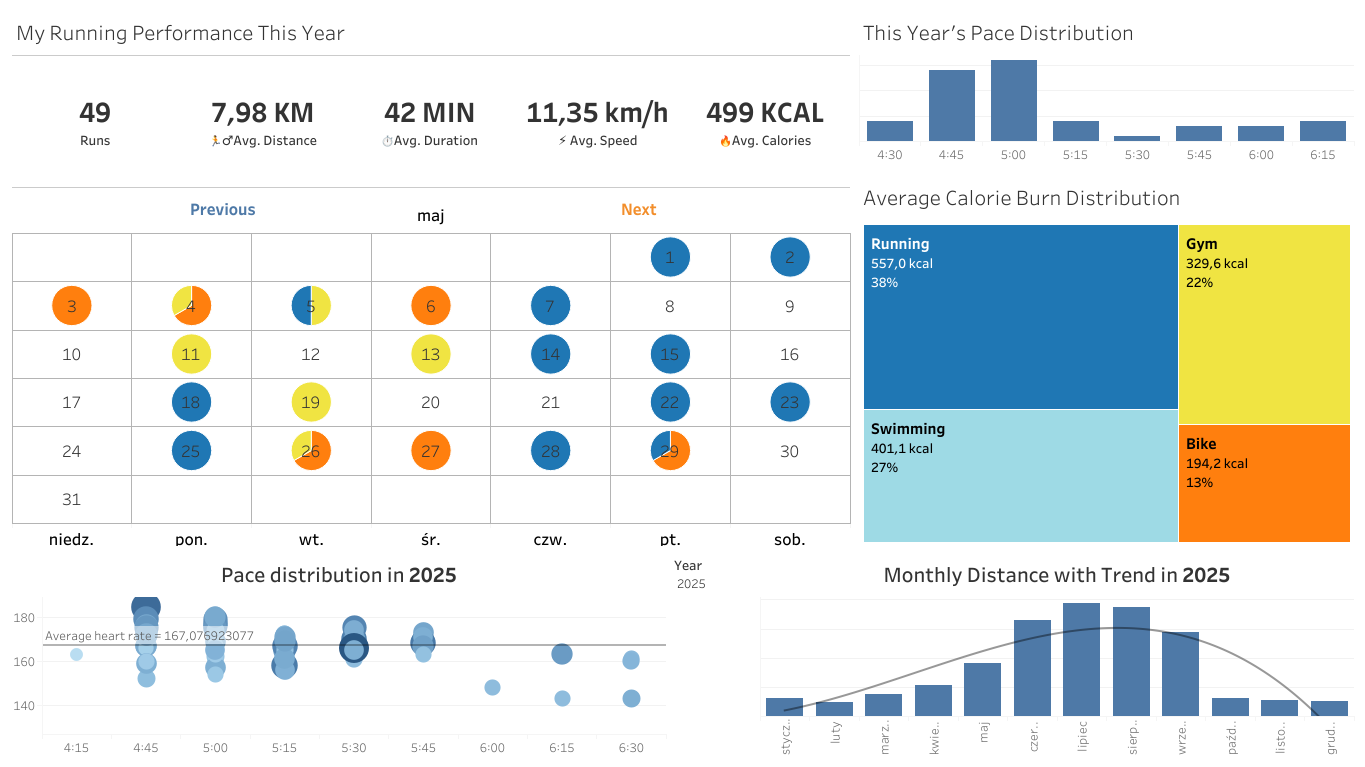

This screenshot's page, from the dashboard's own definition file:
{"tool":"tableau","page":{"name":"Dashboard 4","canvas":[1366,768],"ordinal":0},"visuals":[{"type":"worksheet","title":"KPIs Total","mark":"Automatic","box":[8,8,846.9,184.1]},{"type":"worksheet","title":"Pace Histogram","mark":"Automatic","rows":["ID"],"cols":["Calculation_0014443985092620"],"box":[854.9,8,503.1,164.8]},{"type":"worksheet","title":"Avg Calories","mark":"Automatic","box":[854.9,172.8,503.1,377.1]},{"type":"worksheet","title":"!Calendar Button","mark":"Text","cols":["Calculation_0014311818133614"],"box":[14.8,191,833.3,35.5]},{"type":"worksheet","title":"!Calendar NEW","mark":"Pie","rows":["Date (Sheet1)","Calculation_0015062203318323","Calculation_0015062205087798"],"cols":["Date (Sheet1)","Date (Sheet1)"],"box":[8,192.1,846.9,357.8]},{"type":"worksheet","title":"Scatterplot","mark":"Circle","rows":["Average heart rate"],"cols":["Calculation_0014443985092620"],"box":[8,549.9,662.4,210.1]},{"type":"filter","title":"Scatterplot","param":"[federated.0cmi5sr1an8w2y1d16ydn094edbp].[yr:Date:ok]","box":[670.4,549.9,85.5,210.1]},{"type":"worksheet","title":"Dist","mark":"Bar","rows":["Distance (km)"],"cols":["Date"],"box":[755.9,549.9,602.1,210.1]}]}

Visuals, with their boxes in screenshot pixels (x1, y1, x2, y2), scaled from the page's 1366x768 canvas onto the 1365x767 screenshot:
"KPIs Total" worksheet: [x1=8, y1=8, x2=854, y2=192]
"Pace Histogram" worksheet: [x1=854, y1=8, x2=1357, y2=173]
"Avg Calories" worksheet: [x1=854, y1=173, x2=1357, y2=549]
"!Calendar Button" worksheet (Text marks): [x1=15, y1=191, x2=847, y2=226]
"!Calendar NEW" worksheet (Pie marks): [x1=8, y1=192, x2=854, y2=549]
"Scatterplot" worksheet (Circle marks): [x1=8, y1=549, x2=670, y2=759]
"Scatterplot" filter: [x1=670, y1=549, x2=755, y2=759]
"Dist" worksheet (Bar marks): [x1=755, y1=549, x2=1357, y2=759]
